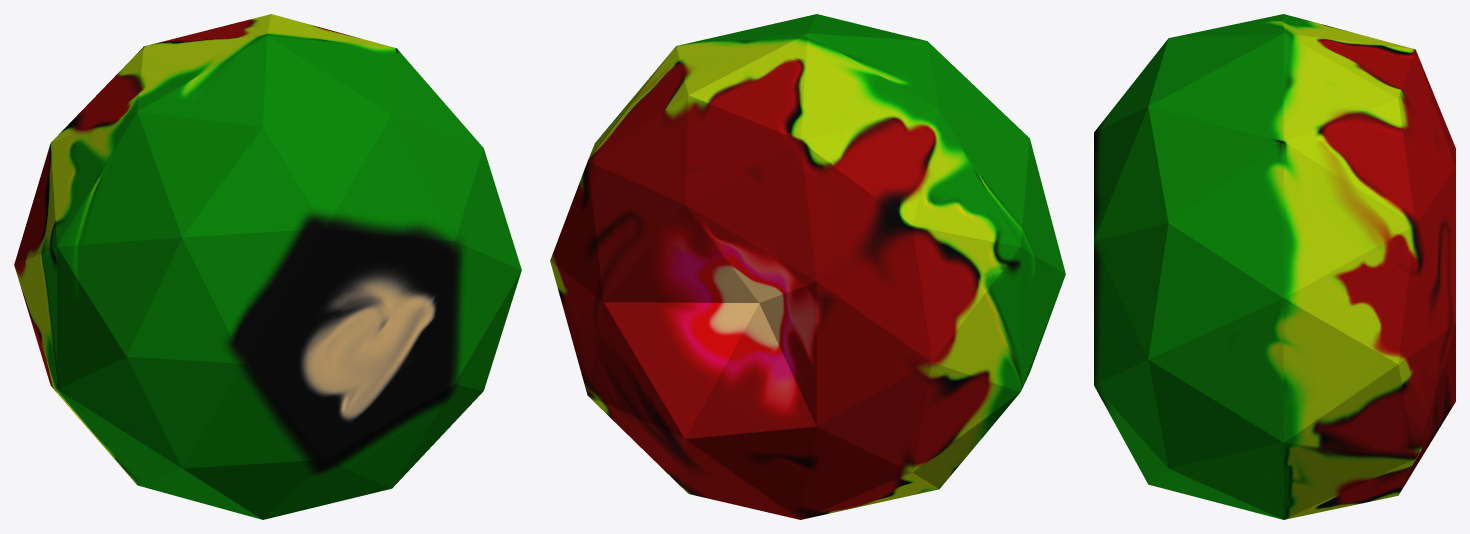
The model's file is FireFruit.fbx.
3 renders of one model, left to right at view 1: azimuth 30°, elevation 25°; view 2: azimuth 150°, elevation 25°; view 3: azimuth 270°, elevation 25°, orthographic.
Parts seen in each view (by area): view 1: FireFruit; view 2: FireFruit; view 3: FireFruit.
Boxes of the visible parts, box(x1,y1,x2,y2) form: FireFruit: box(14, 14, 521, 519); FireFruit: box(550, 14, 1065, 519); FireFruit: box(1094, 14, 1455, 519).
Size of the model in its own units: 140 by 200 by 190.
Materials: 1 (1 with a texture image).
